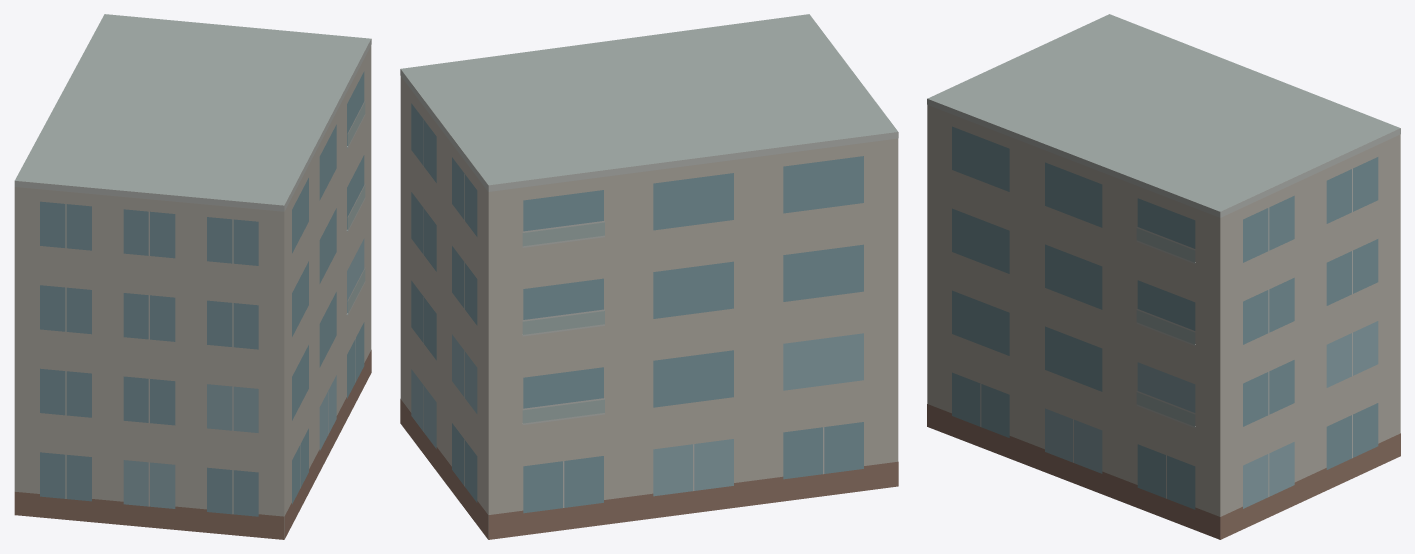
File: survey-upis-32698781.glb
The picture shows the model from 3 angles, left to right: view 1: azimuth 30°, elevation 25°; view 2: azimuth 150°, elevation 25°; view 3: azimuth 270°, elevation 25°; orthographic projection. The views are drawn at different scales.
Visible parts, largest first — view 1: survey-upis-32698781.tmp; view 2: survey-upis-32698781.tmp; view 3: survey-upis-32698781.tmp.
Part boxes in pixels (<box>): survey-upis-32698781.tmp: <box>14,14,371,539</box>; survey-upis-32698781.tmp: <box>400,14,898,539</box>; survey-upis-32698781.tmp: <box>927,14,1400,539</box>.
Bounding box in the file's own units: 16.95 × 13.1 × 17.14.
